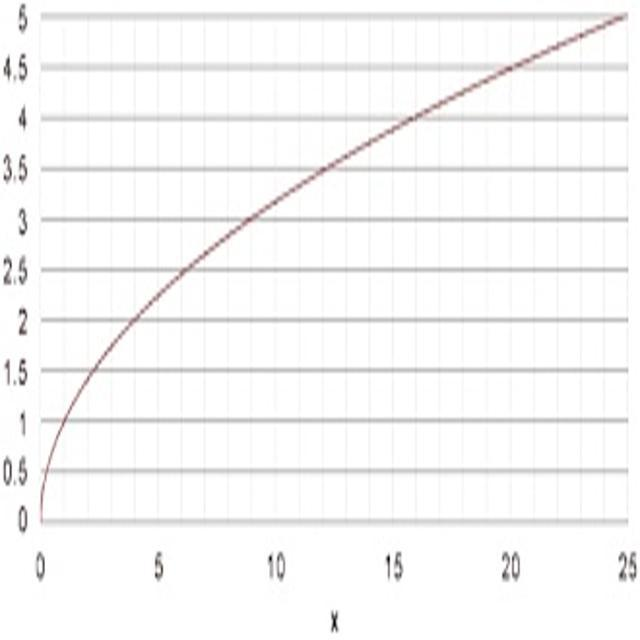axis: (34, 515, 639, 531), (32, 2, 46, 533)
line: (38, 10, 633, 523)
